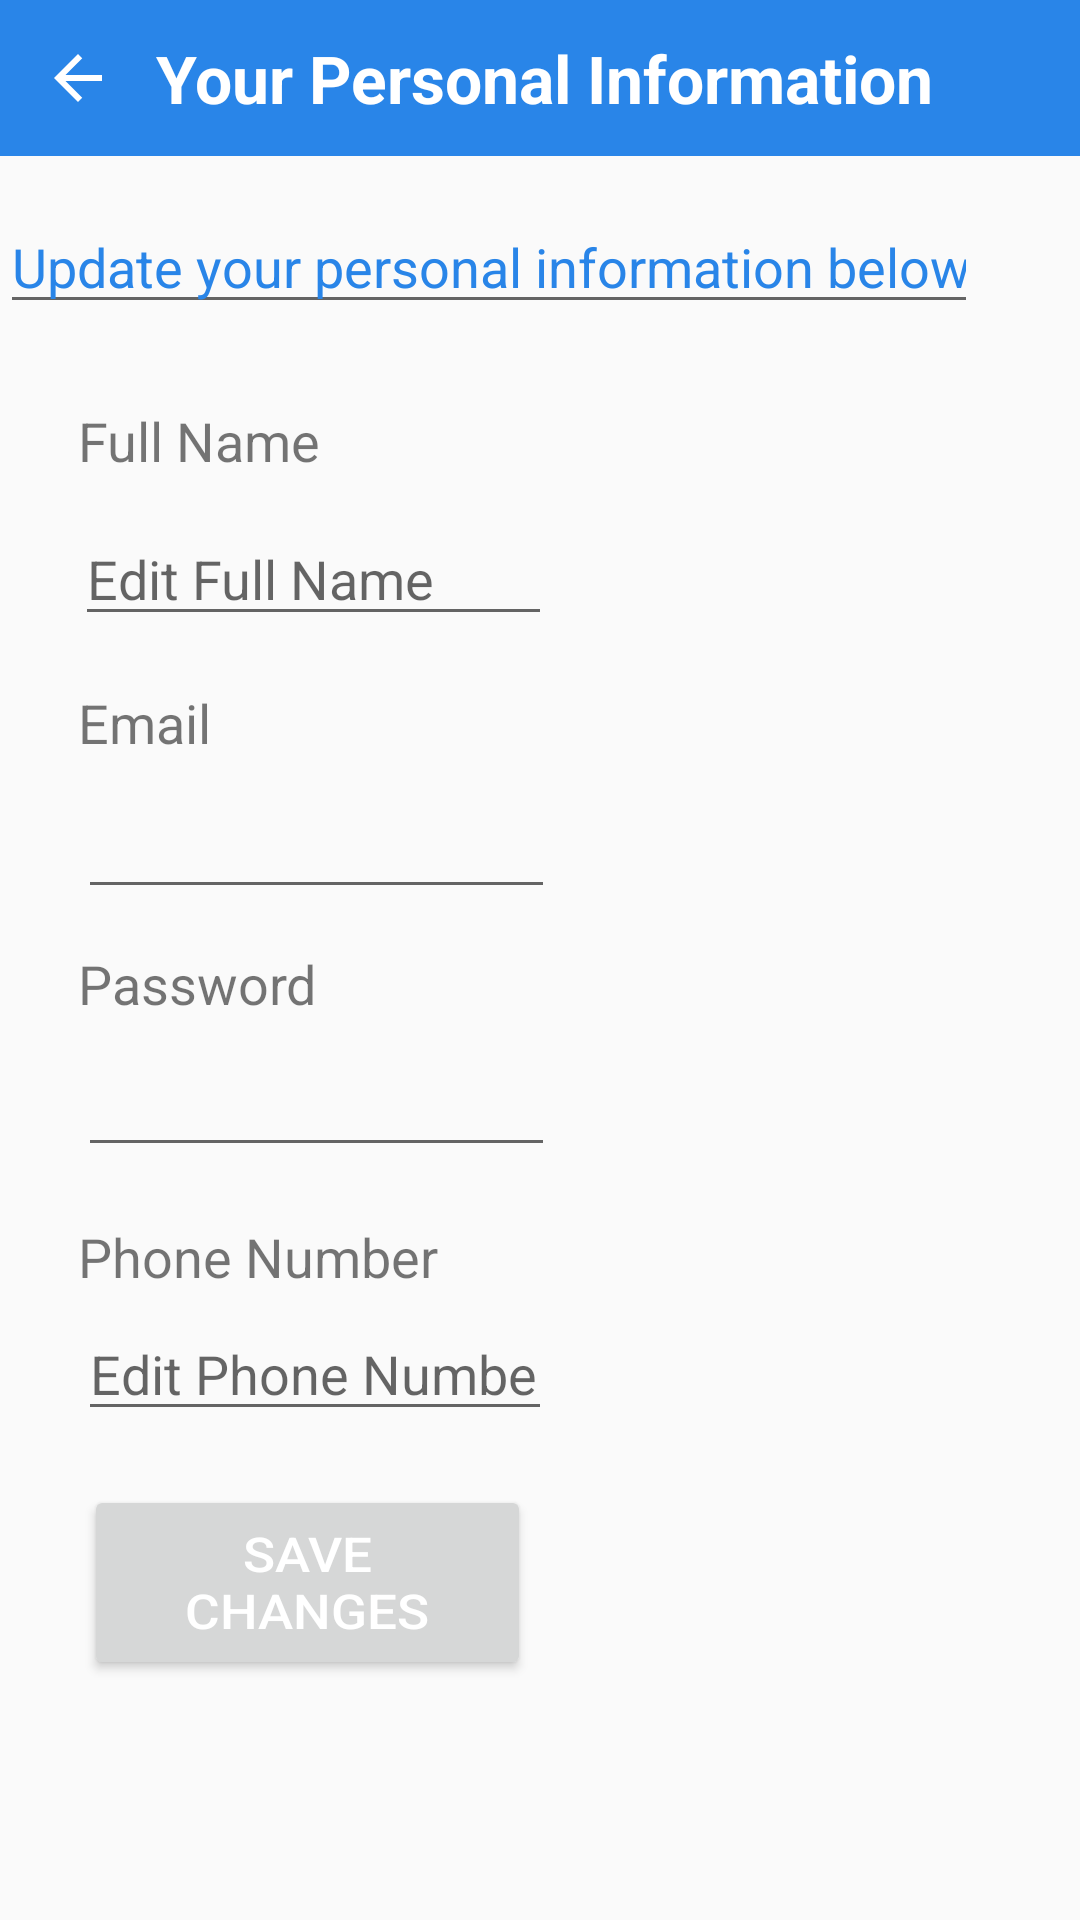

Locate icon controls on the screen. Image size 1080*1920, boxes as (x1, y1, x2, y2).
back arrow: (54, 54, 102, 102)
